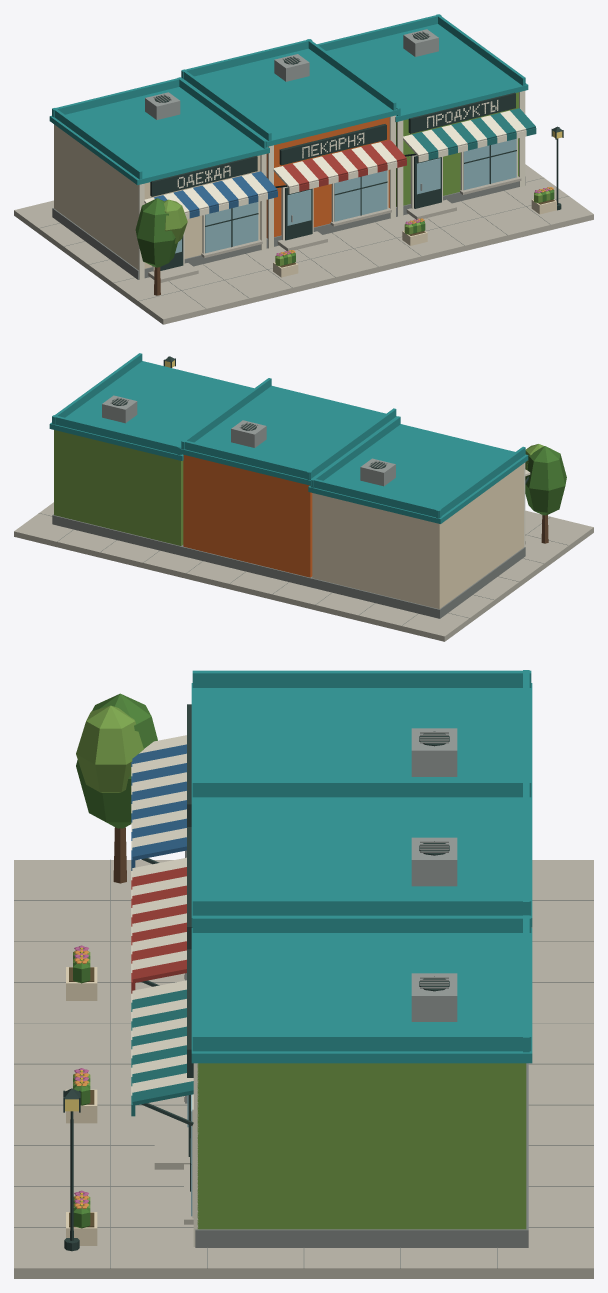
Rendered from 02_RetailRow.obj.
3 renders of one model, top to bottom at view 1: azimuth 30°, elevation 25°; view 2: azimuth 150°, elevation 25°; view 3: azimuth 270°, elevation 25°, orthographic. The views are drawn at different scales.
Parts seen in each view (by area): view 1: 02_RetailRow; view 2: 02_RetailRow; view 3: 02_RetailRow.
Boxes of the visible parts, x1,y1,x2,y2 form: 02_RetailRow: [14, 14, 593, 324]; 02_RetailRow: [14, 353, 593, 641]; 02_RetailRow: [14, 670, 593, 1278].
Size of the model in its own units: 20 by 5.67 by 12.
Materials: 1 (1 with a texture image).
